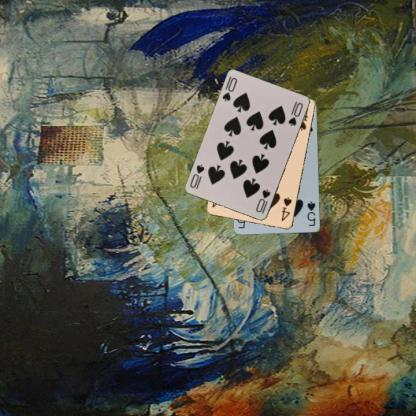10s: (254, 186, 272, 216), (220, 75, 238, 103)
4s: (279, 195, 293, 222)
5s: (305, 199, 317, 228)
